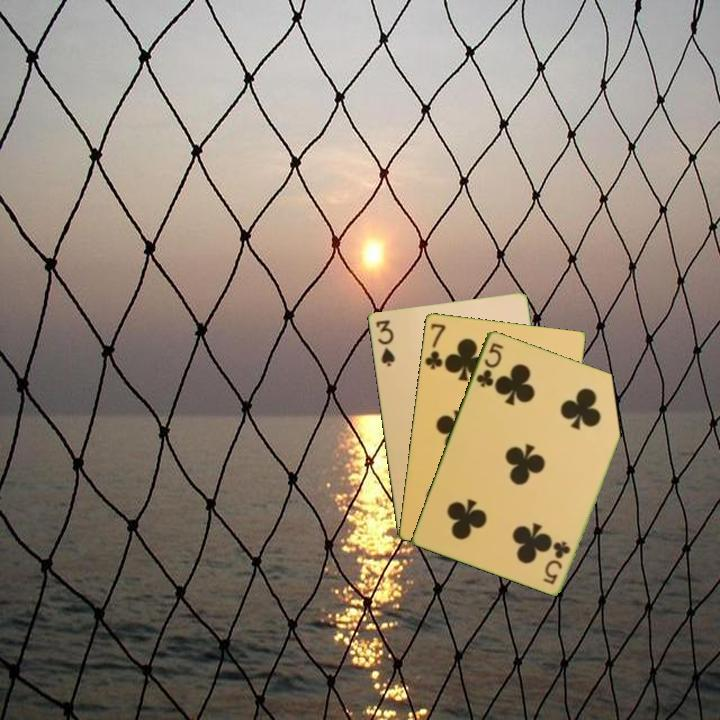3s: (372, 316, 398, 369)
5c: (472, 339, 506, 390), (540, 537, 573, 587)
7c: (421, 320, 448, 372)
